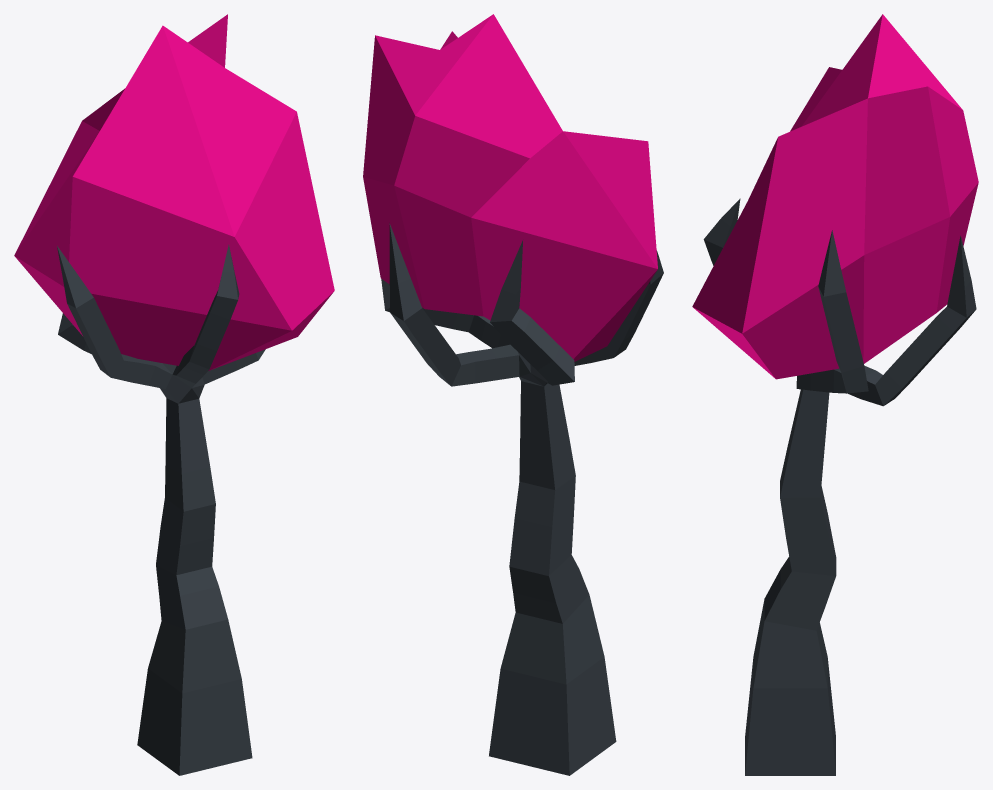
File: Claw_tree.glb
3 renders of one model, left to right at view 1: azimuth 30°, elevation 25°; view 2: azimuth 150°, elevation 25°; view 3: azimuth 270°, elevation 25°, orthographic. The views are drawn at different scales.
Visible parts, largest first — view 1: Cube.001, Vert; view 2: Cube.001, Vert; view 3: Cube.001, Vert.
Boxes of the visible parts, left/top/right/bottom form: Cube.001: left=14, top=14, right=334, bottom=370; Vert: left=57, top=244, right=265, bottom=775; Cube.001: left=363, top=14, right=657, bottom=361; Vert: left=381, top=223, right=663, bottom=775; Cube.001: left=692, top=14, right=978, bottom=379; Vert: left=703, top=198, right=976, bottom=775.
Size of the model in its own units: 7.29 by 17.66 by 6.13.
